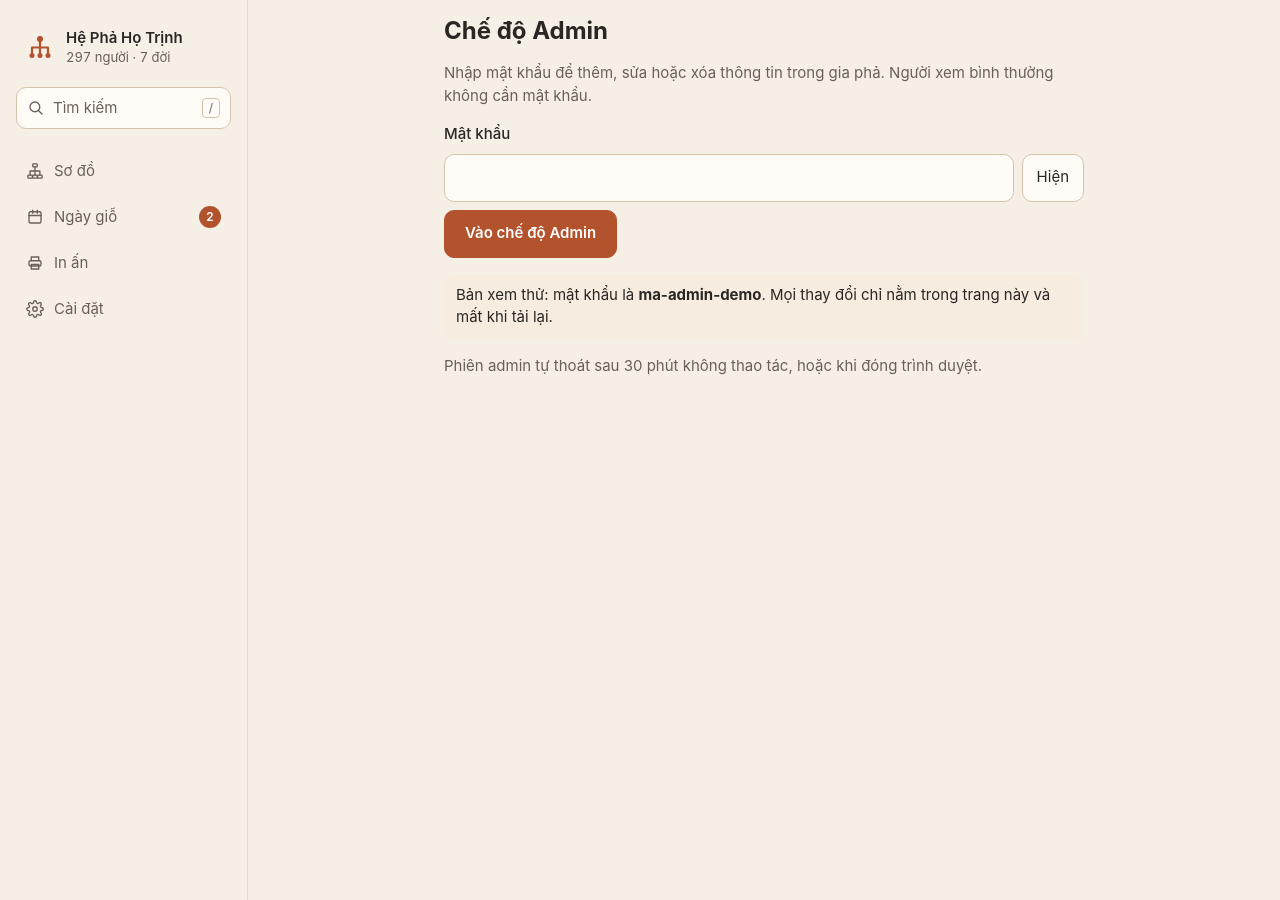
Test: admin sign-in › rejects a wrong code and accepts the right one
Expected: the button "Vào chế độ Admin" is enabled, [444,210,617,258]
Type "sai" into the password field labelled "Mật khẩu" at (729, 178), box [444,154,1014,202]
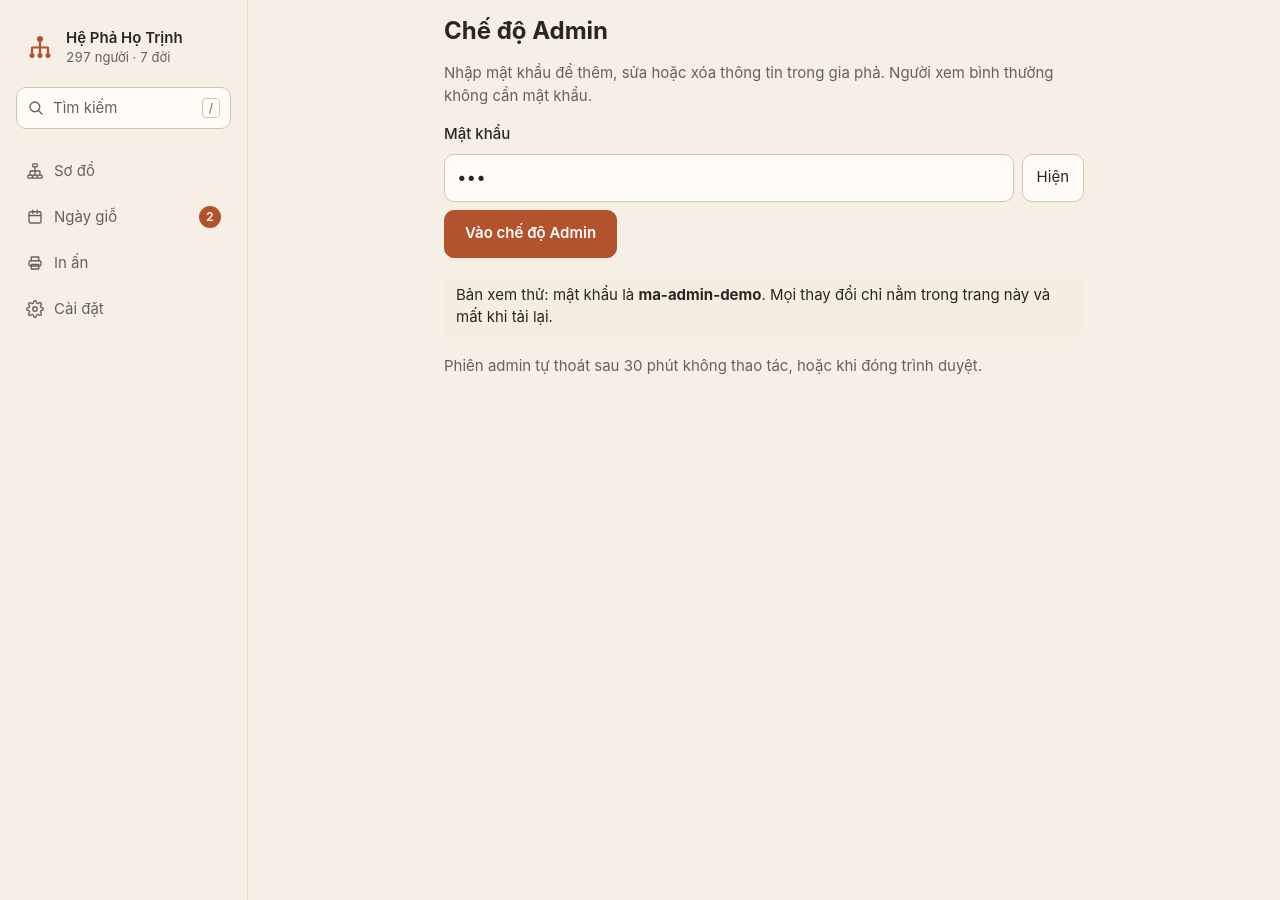
Click the button "Vào chế độ Admin" at (531, 234), box [444,210,617,258]
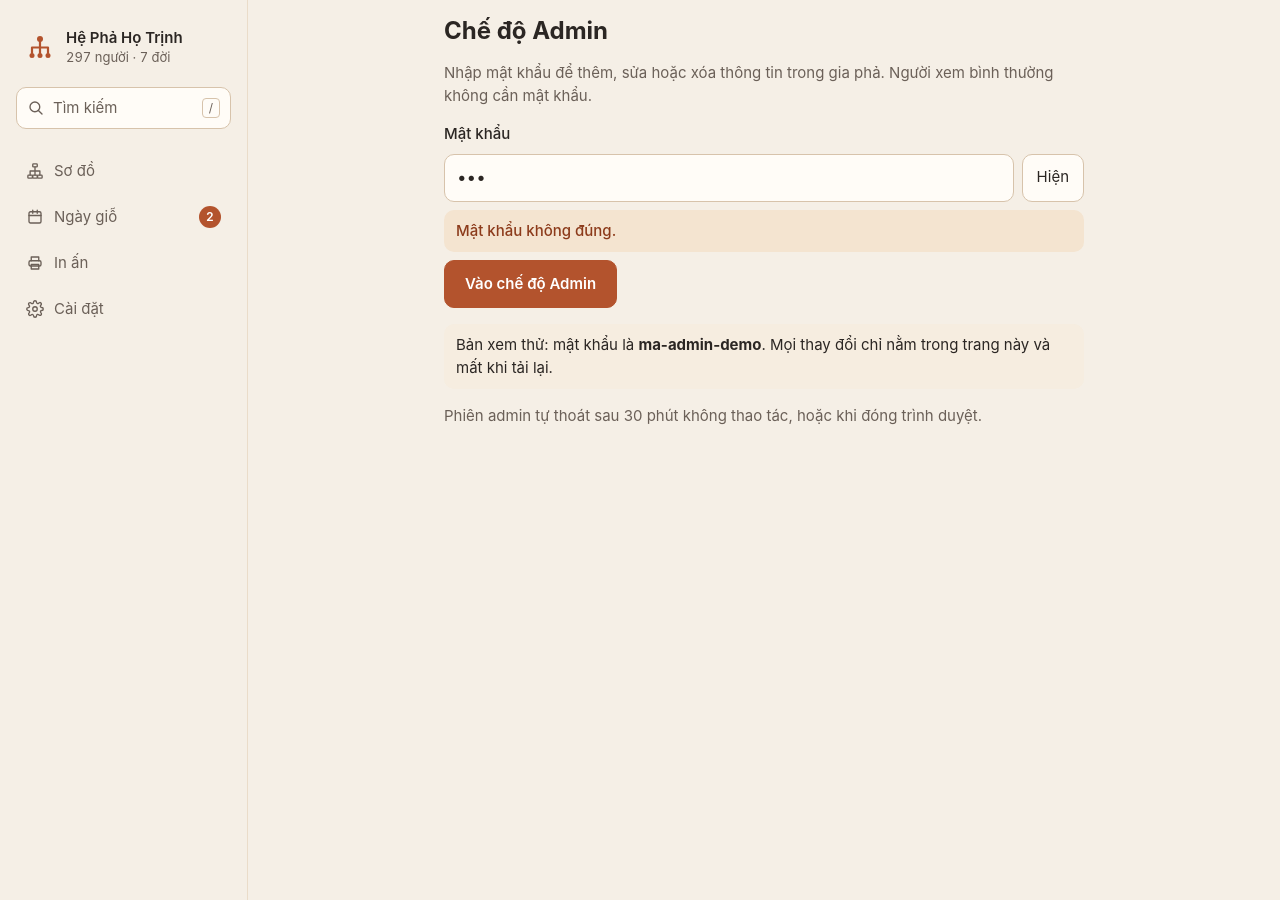
Expected: the text "Mật khẩu không đúng." is shown, [444,210,1084,252]
Type "ma-admin-demo" into the password field labelled "Mật khẩu" at (729, 178), box [444,154,1014,202]
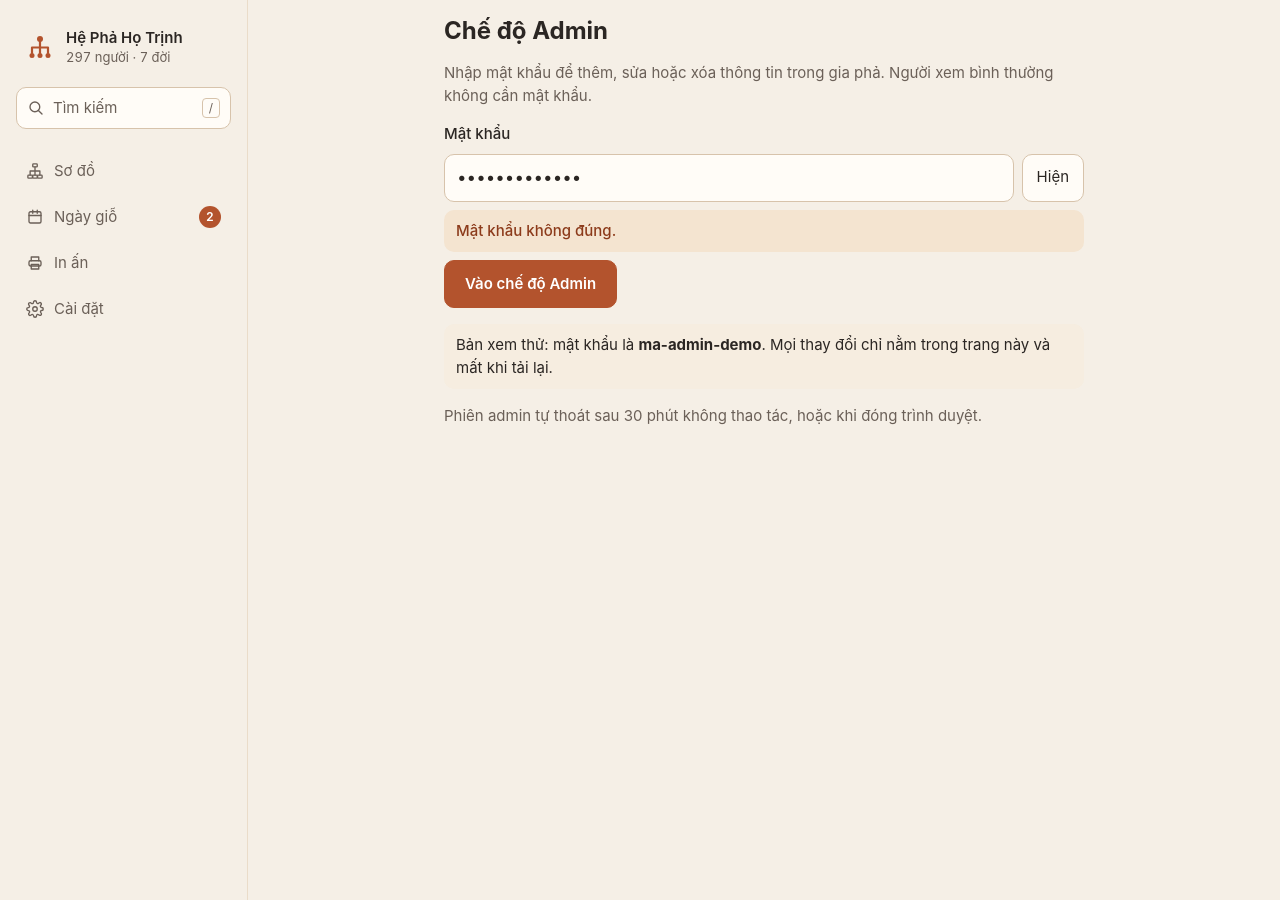
Click the button "Vào chế độ Admin" at (531, 284), box [444,260,617,308]
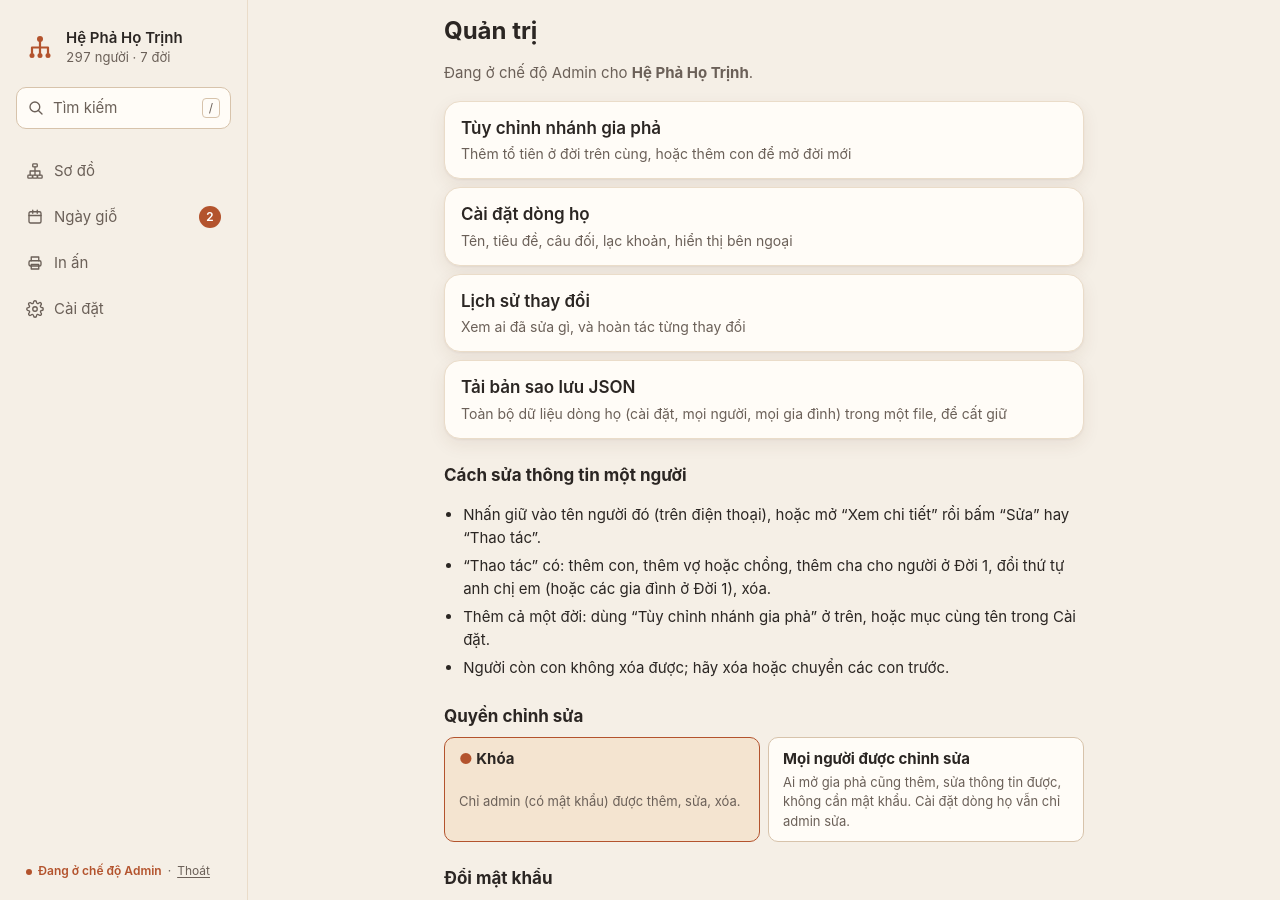
Expected: the heading "Quản trị" is shown, [444,16,537,45]
Expected: the button with aria-label "Thoát chế độ Admin" is shown, [171,855,216,888]
